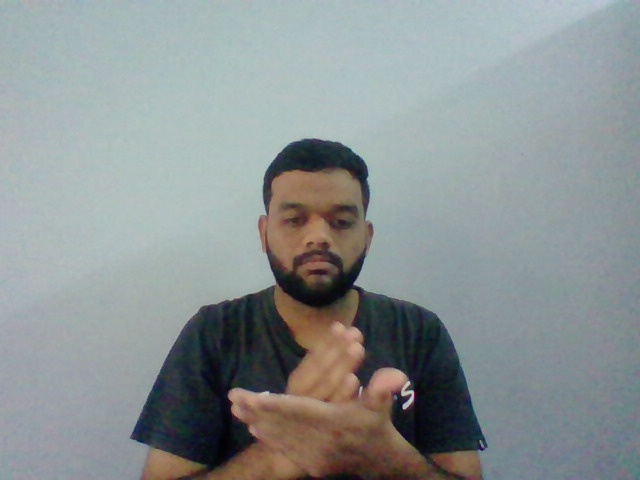Stop: (227, 318, 415, 480)
